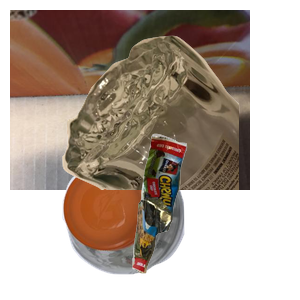cardboard: (10, 10, 250, 190)
glass: (60, 33, 300, 213)
plastic: (60, 152, 237, 300)
trash: (130, 131, 300, 300)
